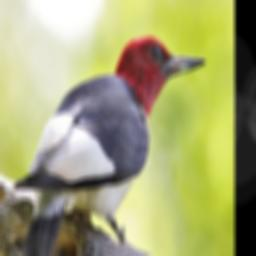Woodpecker: (14, 38, 204, 256)
